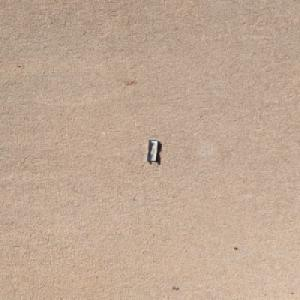ClampPart: (145, 138, 160, 162)
